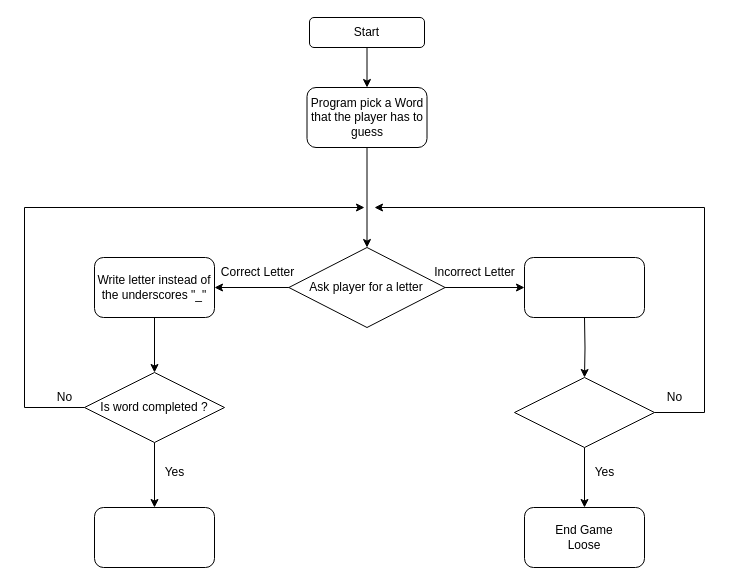
This 730x585 diagram has some shape labels left out. Here are the shapes that lost their labels. From the top down, the centre of each, then its label:
At point (584, 287): "Add next phase of Hangman drawing".
At point (584, 412): "Is hangman dead ?".
At point (154, 537): "End Game Win".
